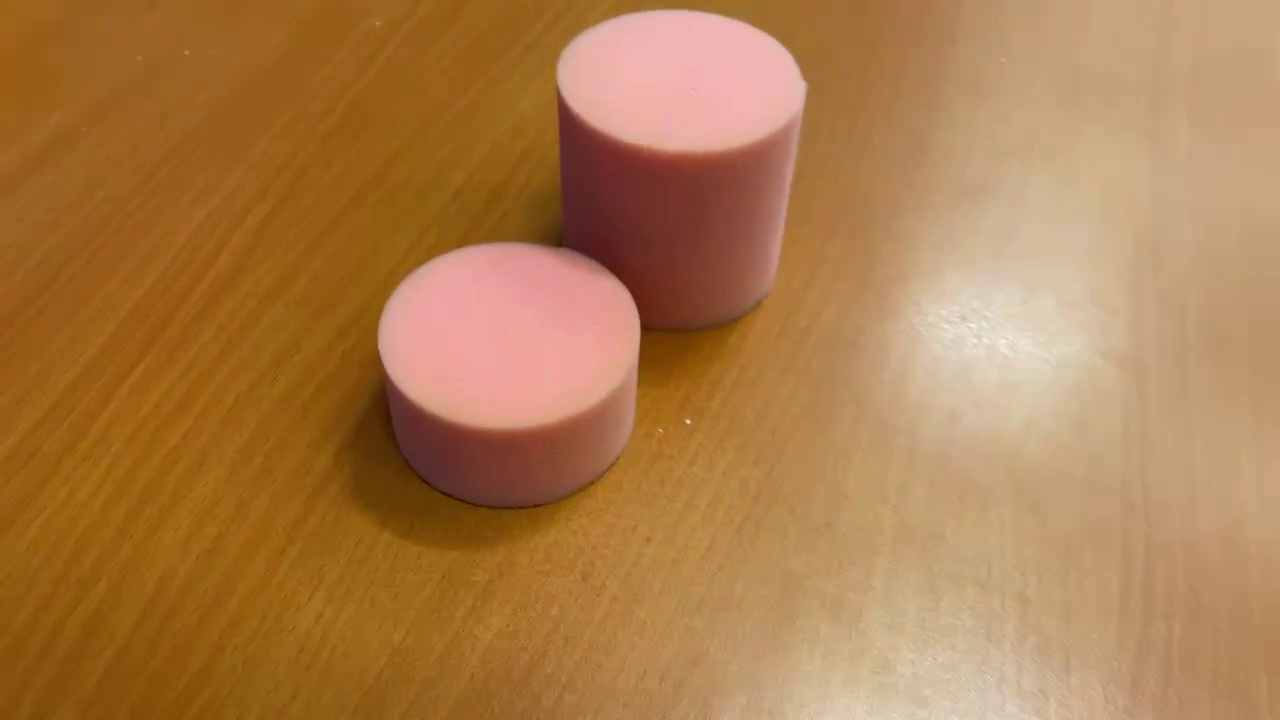Clyinder_short: (368, 235, 649, 512)
Cylinder: (546, 4, 809, 336)
